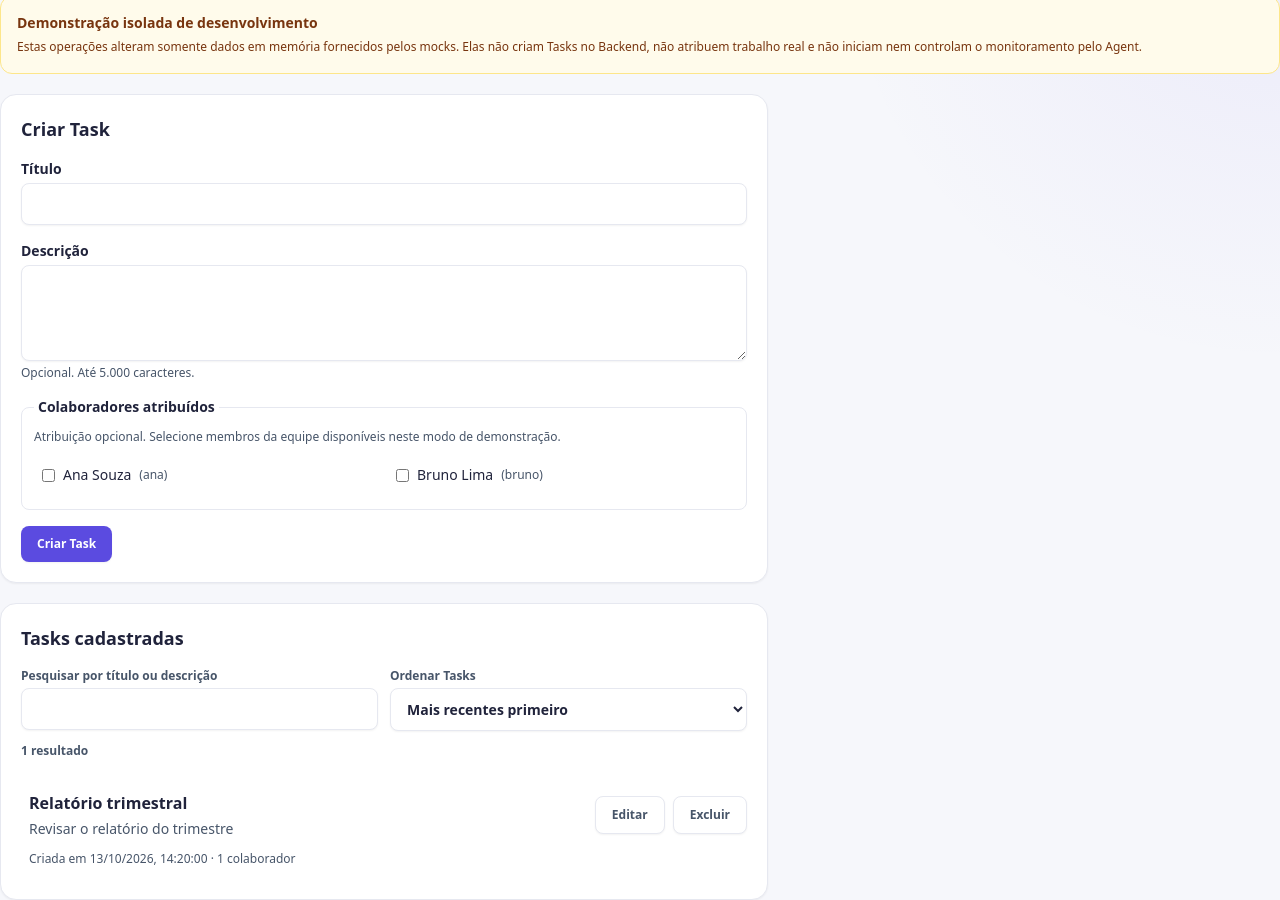
TasksPage › mantém os dados e mostra erro quando uma alteração falha
(page scrolled)
Click the button with aria-label "Editar Task: Relatório trimestral". click: [630, 815]
box: [595, 796, 665, 834]
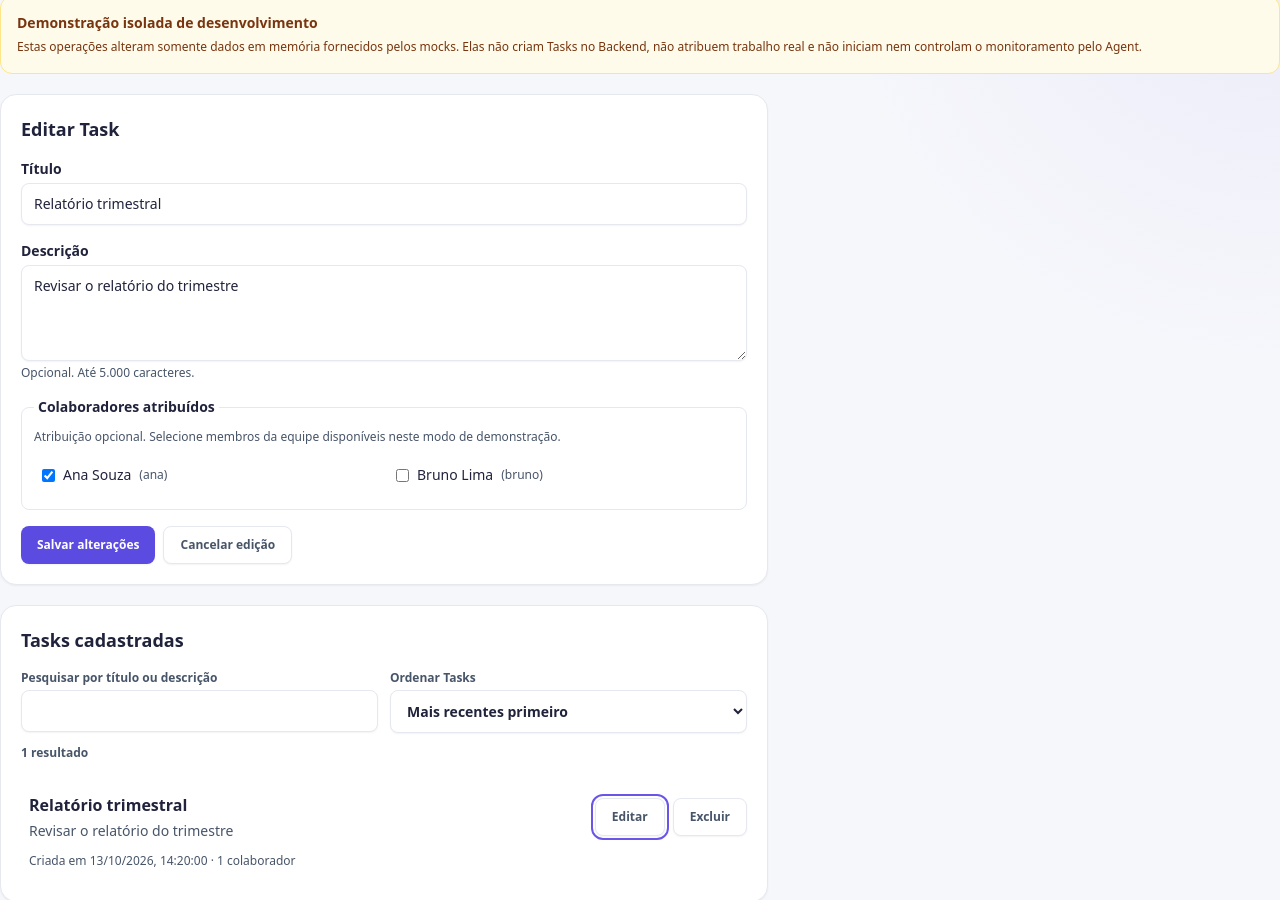
Replace the text in the field labelled "Título" with "Rascunho local". click: [384, 204]
box: [21, 183, 747, 225]
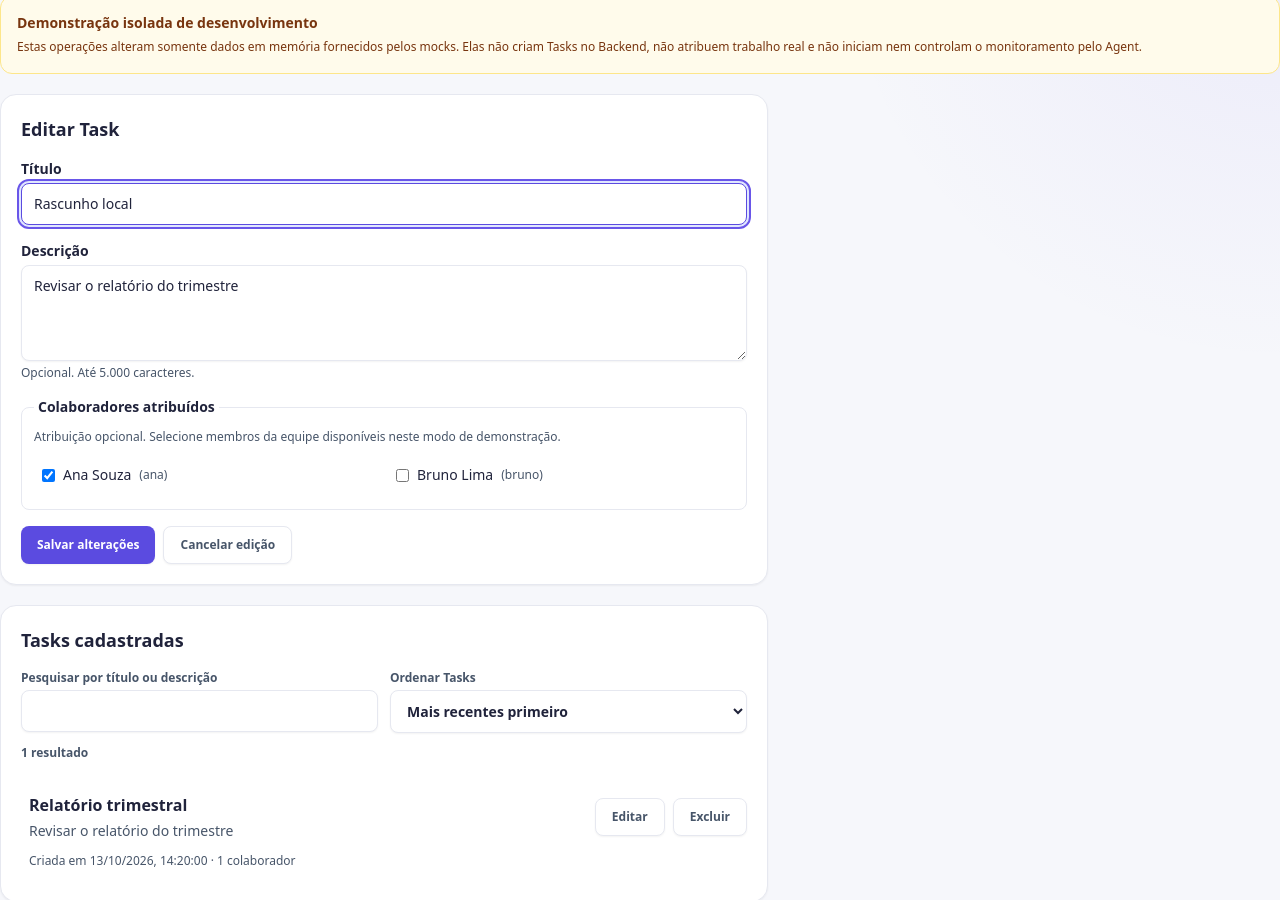
Click the checkbox labelled "Bruno Lima (bruno)". click: [402, 475]
box: [396, 468, 409, 482]
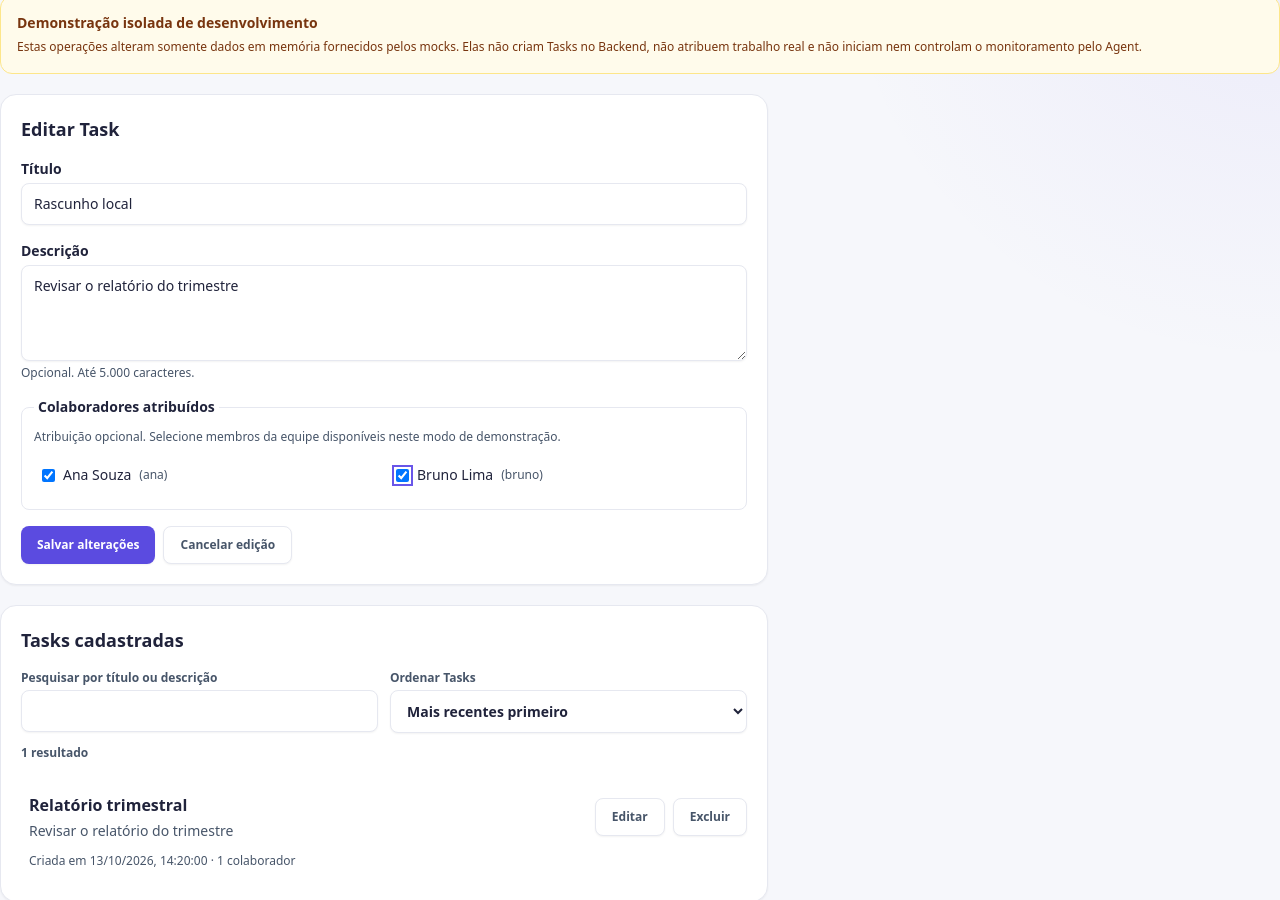
Click the button "Salvar alterações". click: [88, 545]
box: [21, 526, 156, 564]
(page scrolled)
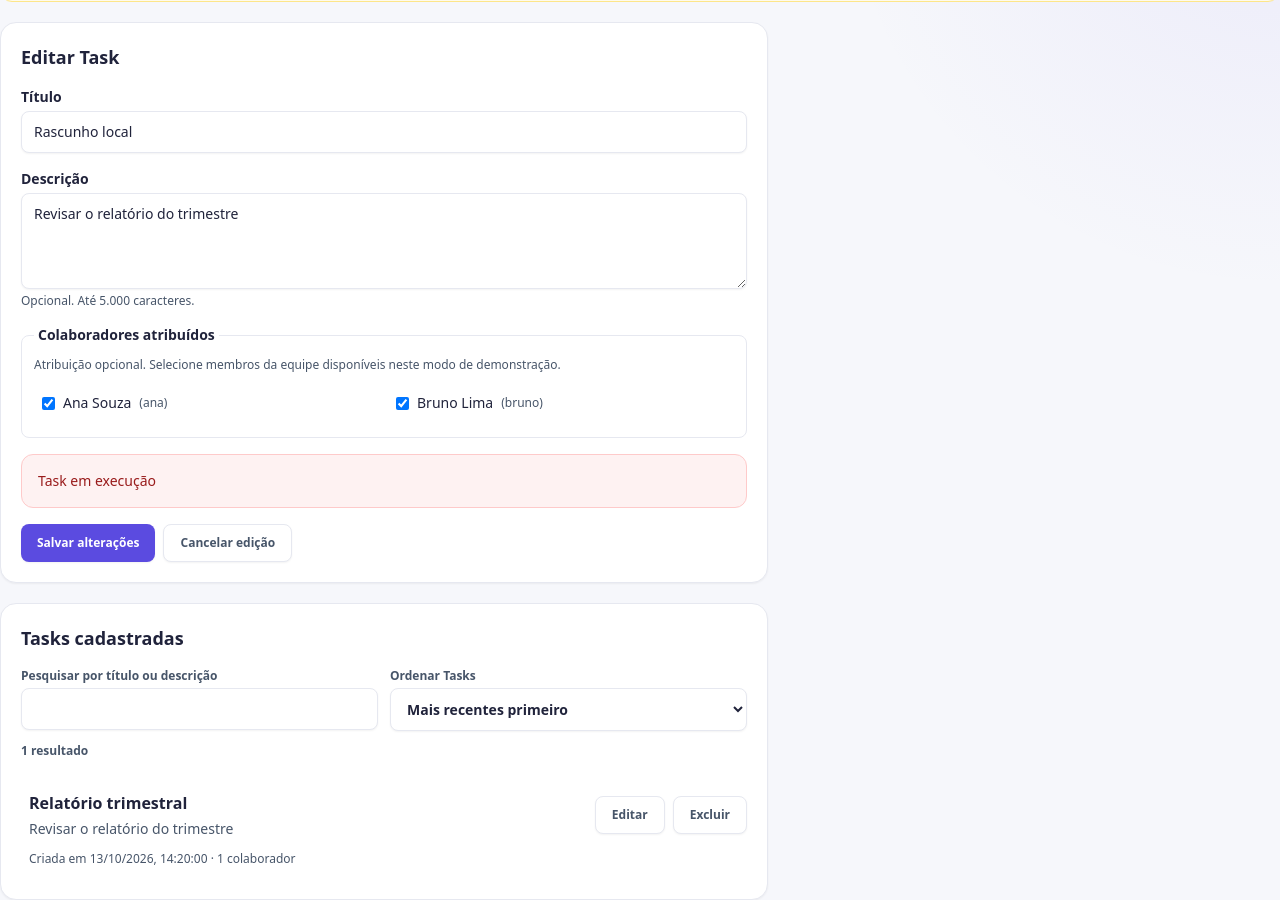
Expected: the checkbox labelled "Bruno Lima (bruno)" is checked, [396, 396, 409, 410]
Expected: the checkbox labelled "Ana Souza (ana)" is checked, [42, 396, 55, 410]
Expected: the message "Task em execução" is shown, [21, 454, 747, 508]
